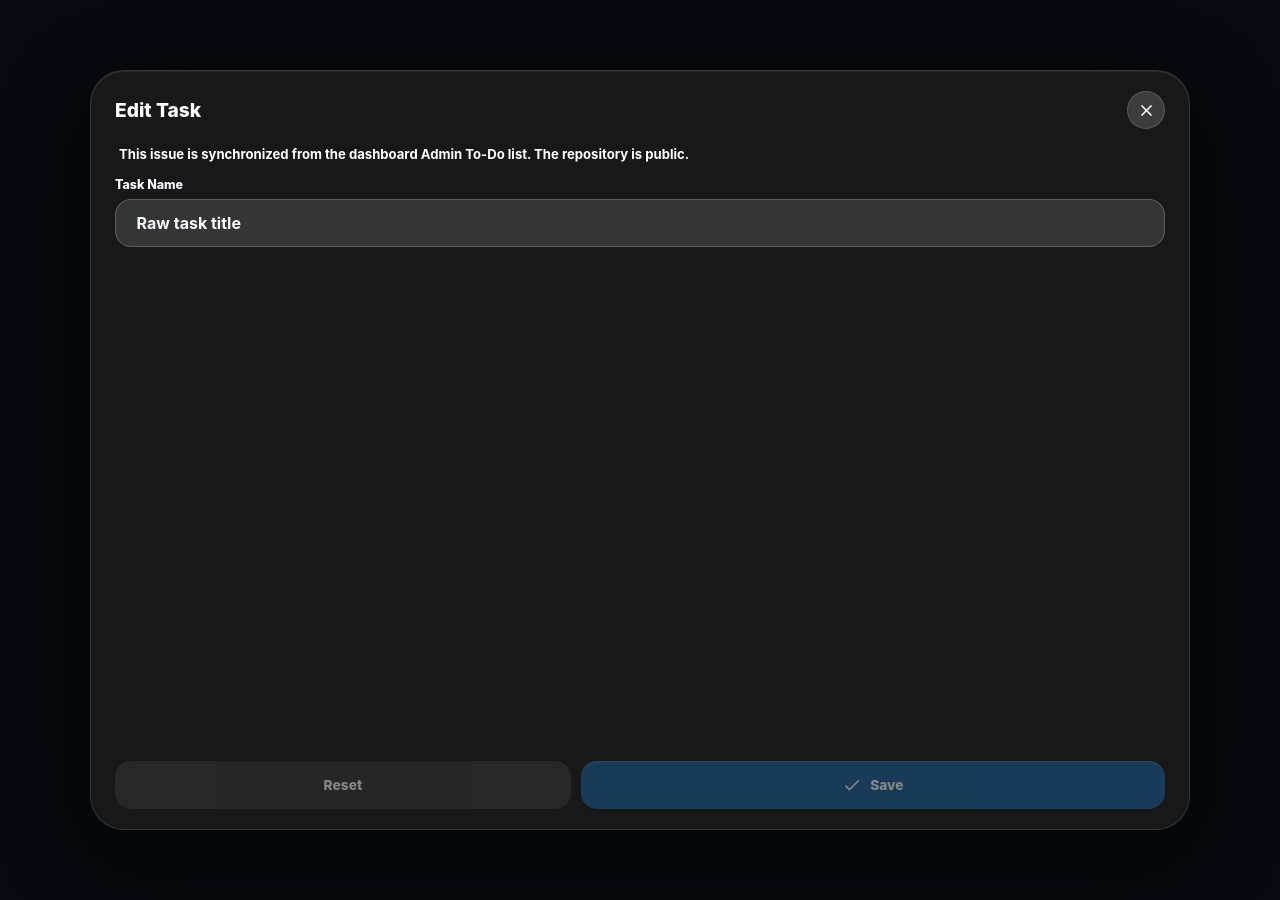
EditTodoItemSheet › retains the draft and error after a synchronous throw
Step 1. Replace the text in the field labelled "Task Name" with "Thrown title" → [640, 223], box [115,199,1165,247]
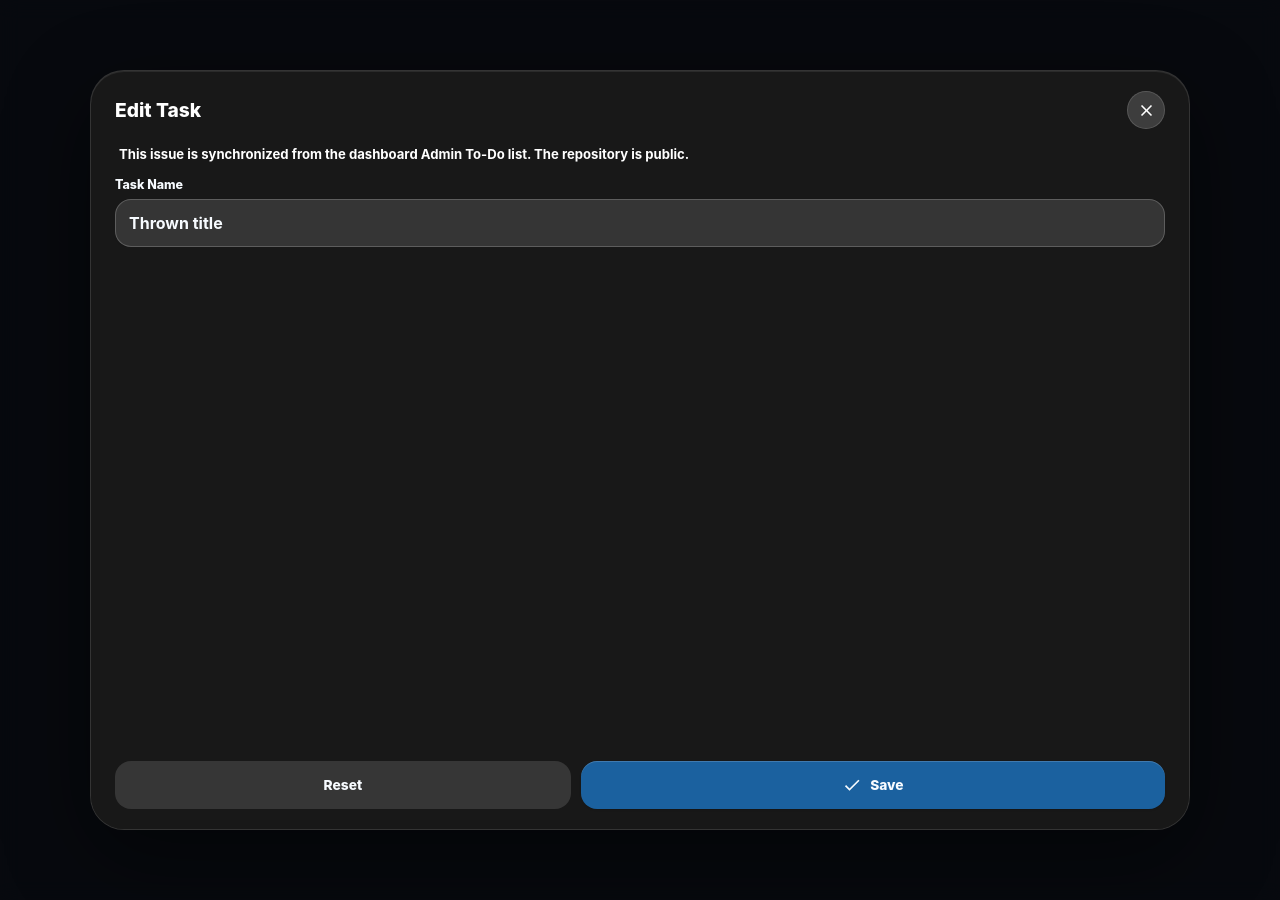
Step 2. Click the button "Save" → [873, 785], box [581,761,1165,809]
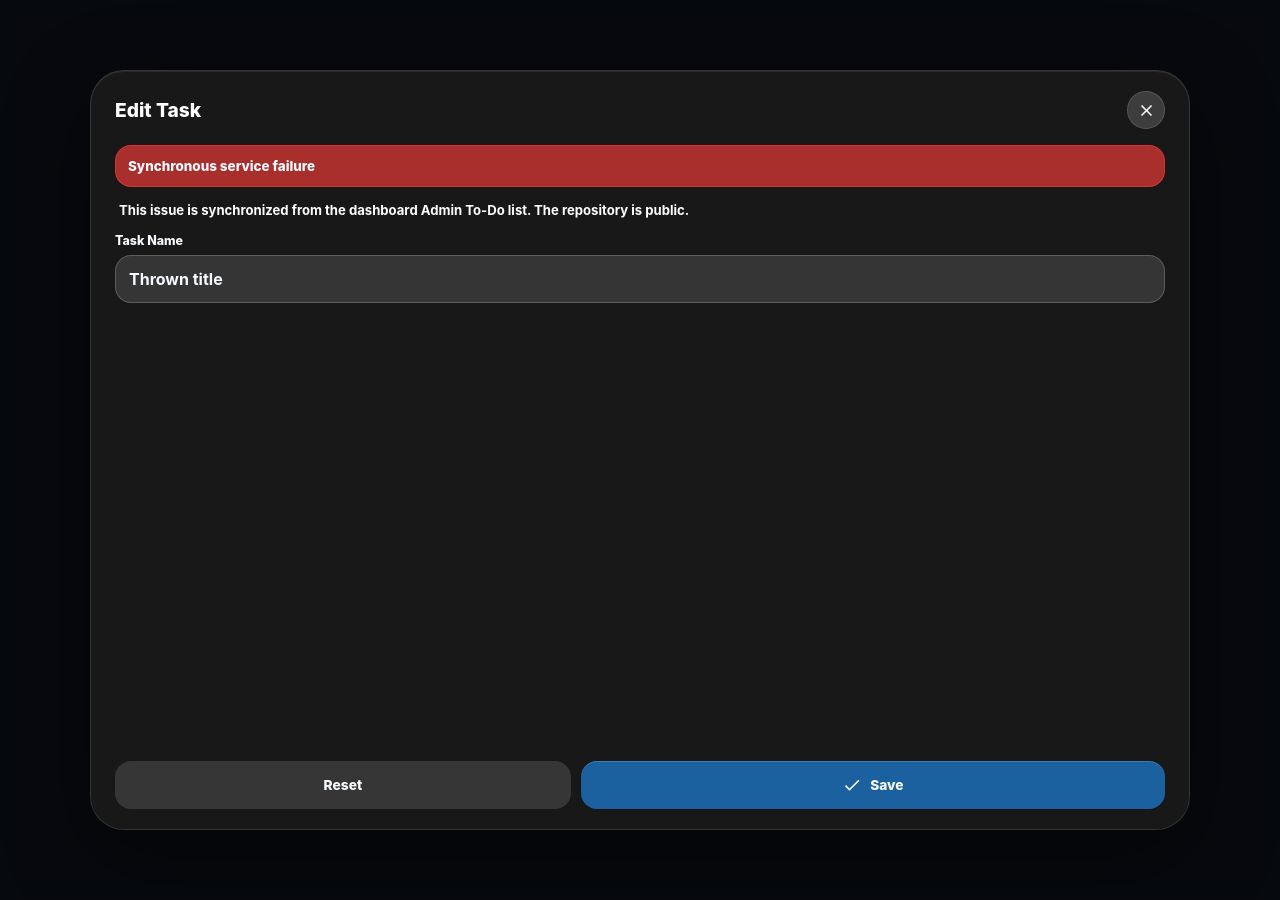
Expected: the button "Save" is enabled, [581,761,1165,809]
Expected: the message reads "Synchronous service failure", [128,158,315,174]
